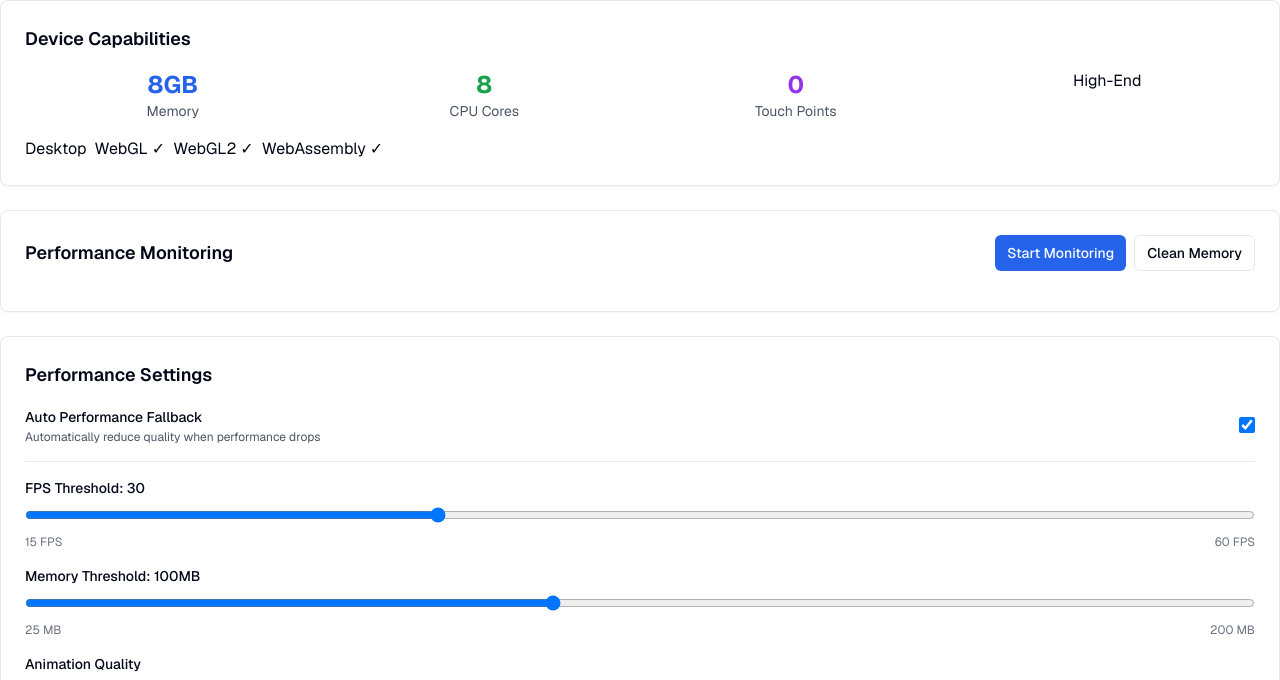
it: PerformanceSettings › displays battery information when available
This screenshot has width=1280, height=680.
Start monitoring and update metrics
Click the button "Start Monitoring": (1061,253) [995,235,1126,271]
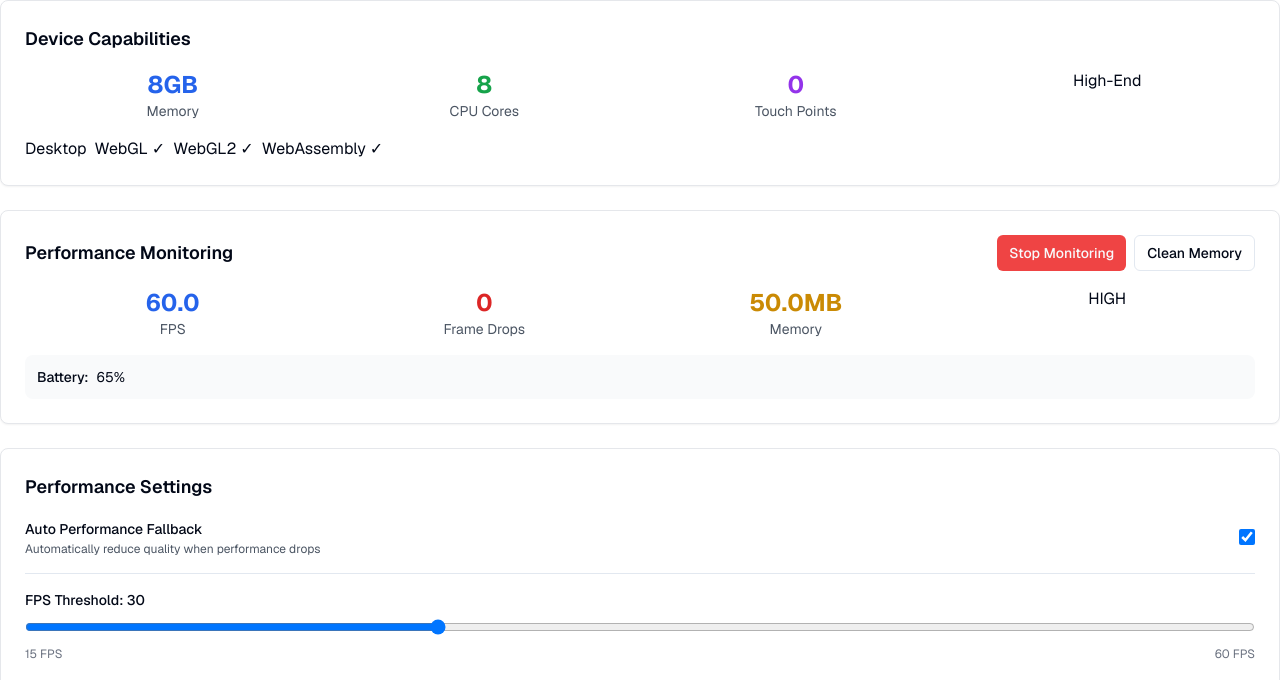
Now the text "Battery:" is shown, box [37,367,89,387]
Now the text "65%" is shown, box [97,367,125,387]
